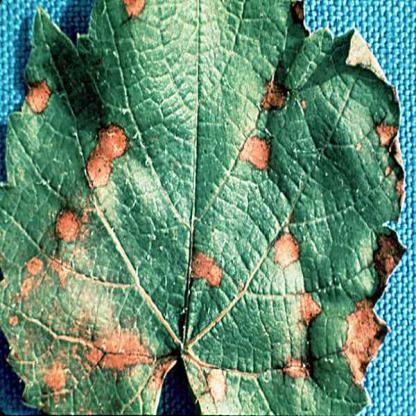grape leaf black rot: (1, 7, 403, 400)
